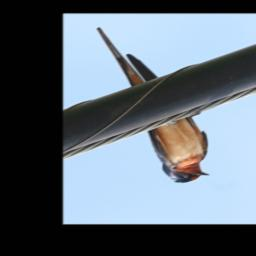Swallow: (96, 27, 210, 184)
